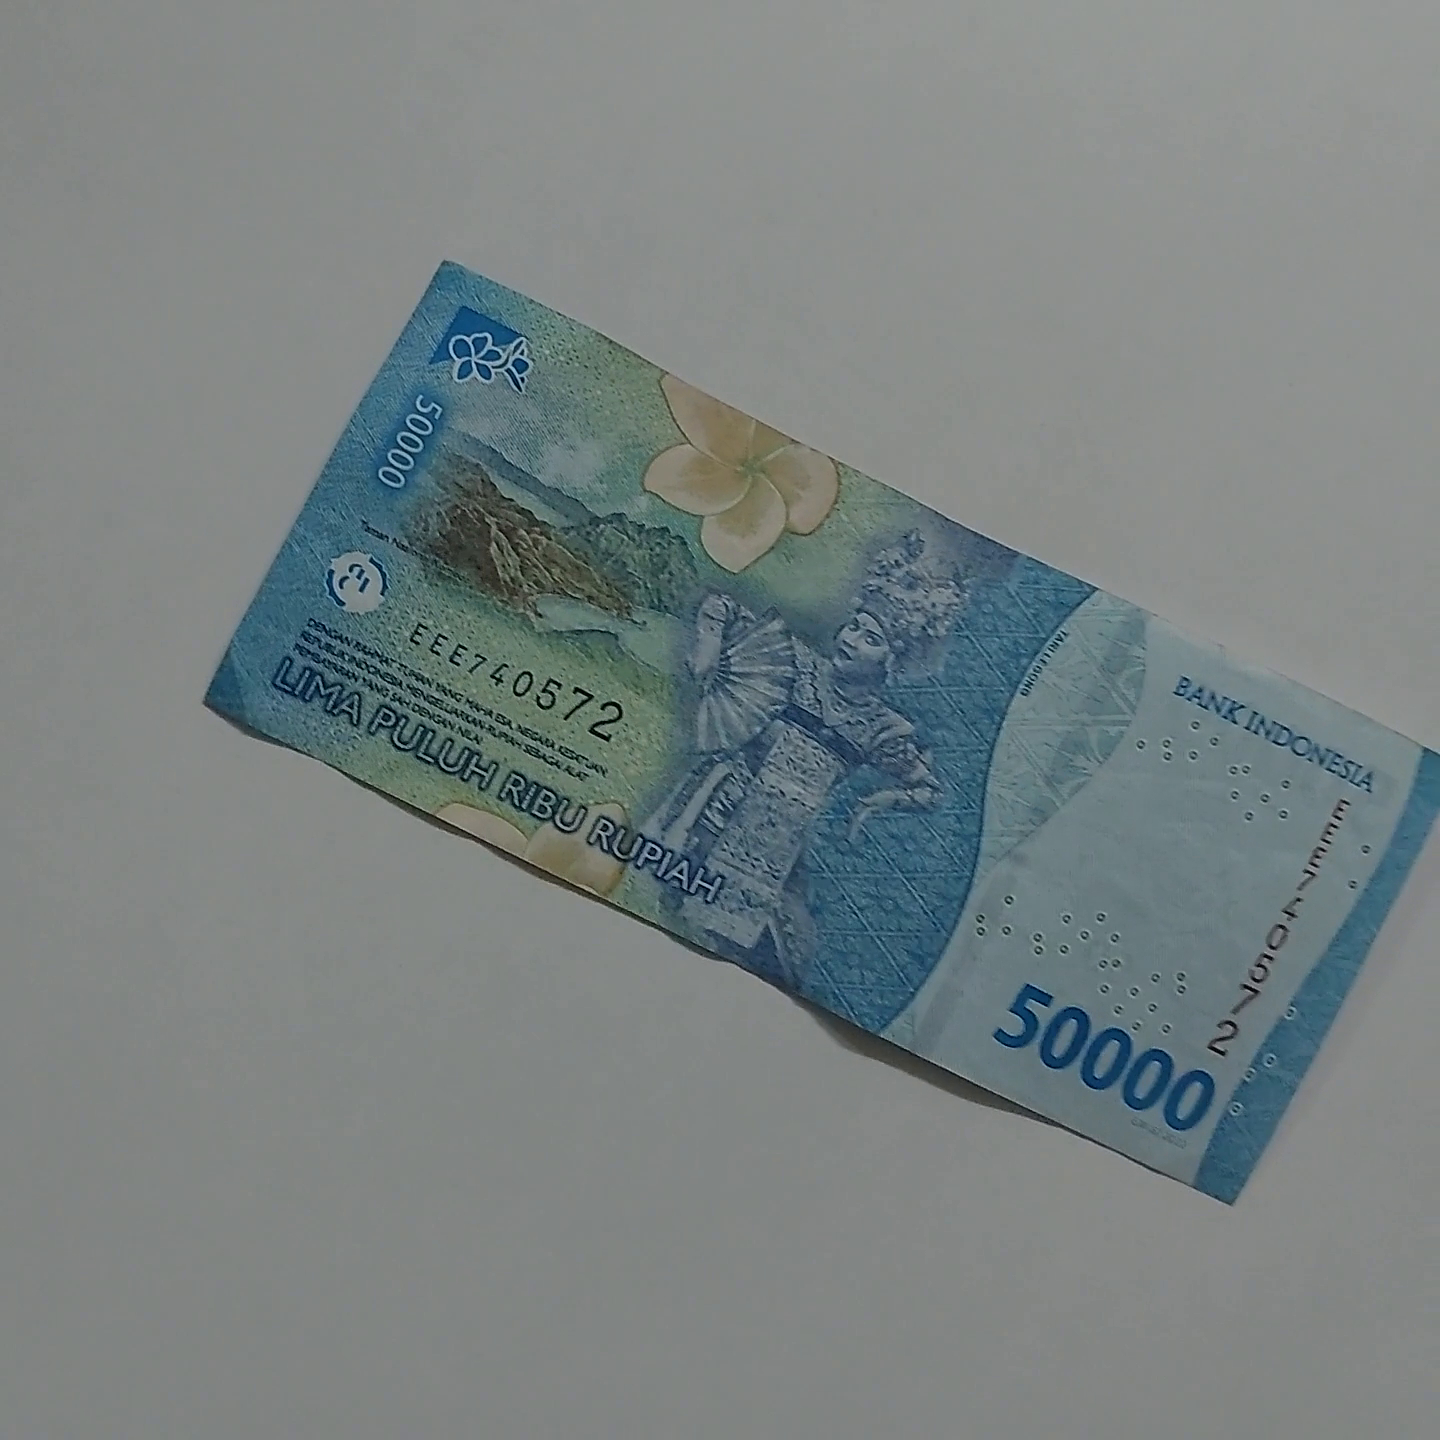50k: (195, 169, 1440, 1225)
